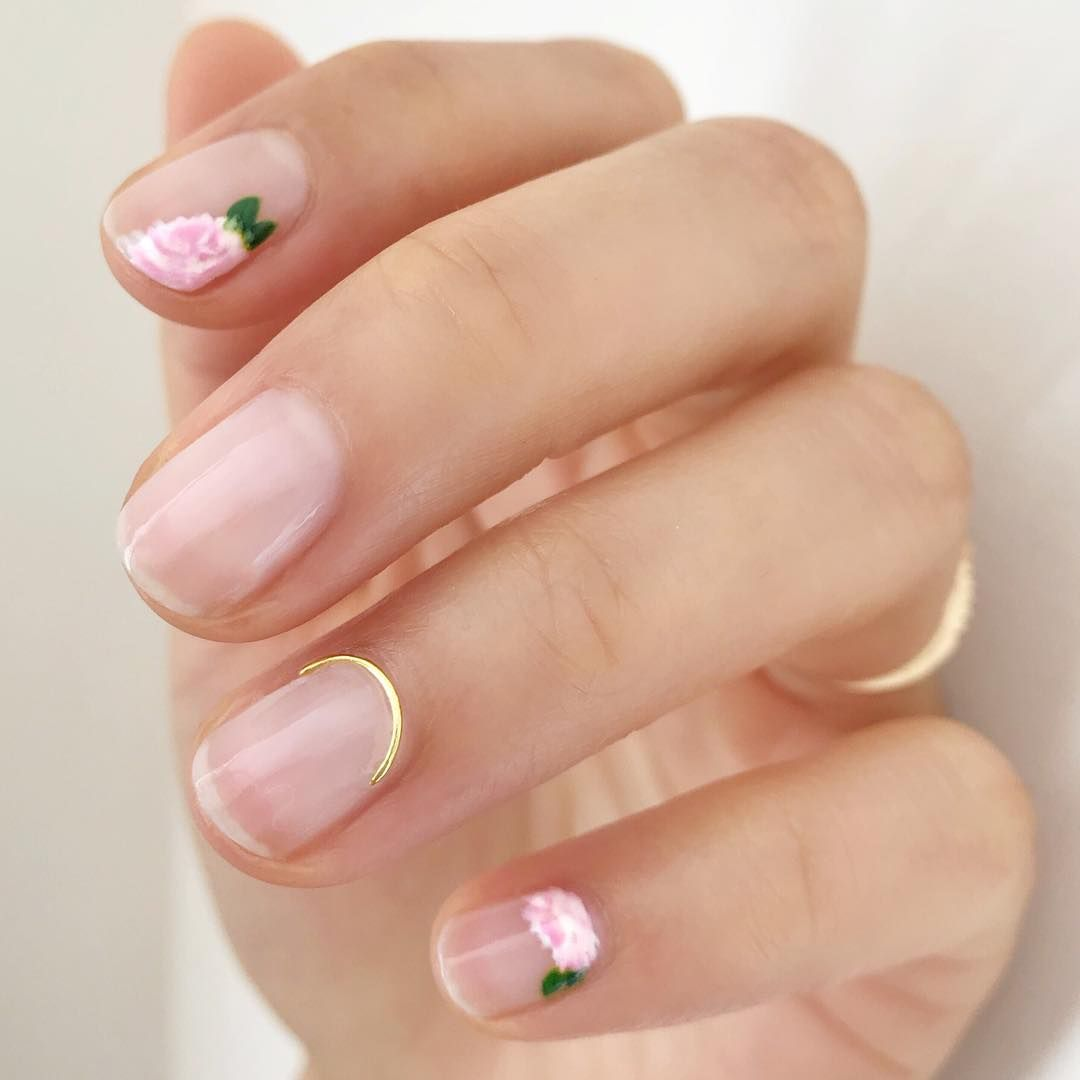nails: (102, 380, 351, 628), (173, 651, 418, 876), (102, 119, 325, 298), (417, 892, 619, 1026)
